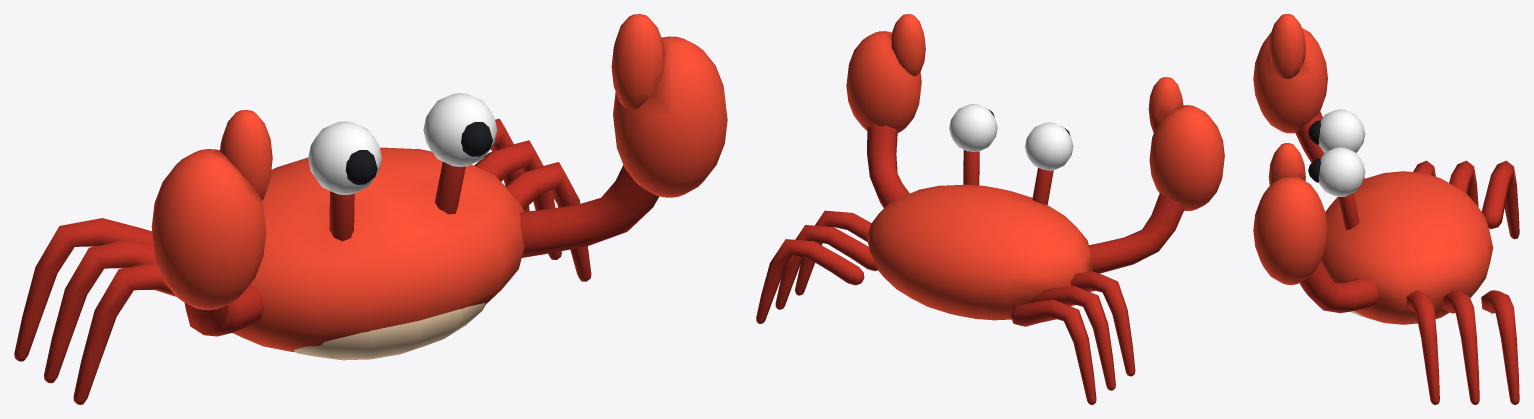
File: crab.glb
3 views of the same model, side by side, from view 1: azimuth 30°, elevation 25°; view 2: azimuth 150°, elevation 25°; view 3: azimuth 270°, elevation 25° (orthographic). The views are drawn at different scales.
Parts seen in each view (by area): view 1: Crab; view 2: Crab; view 3: Crab.
Boxes of the visible parts, left/top/right/bottom form: Crab: left=14, top=14, right=727, bottom=404; Crab: left=756, top=14, right=1224, bottom=404; Crab: left=1253, top=14, right=1519, bottom=404.
Size of the model in its own units: 2.63 by 1.61 by 1.6.
